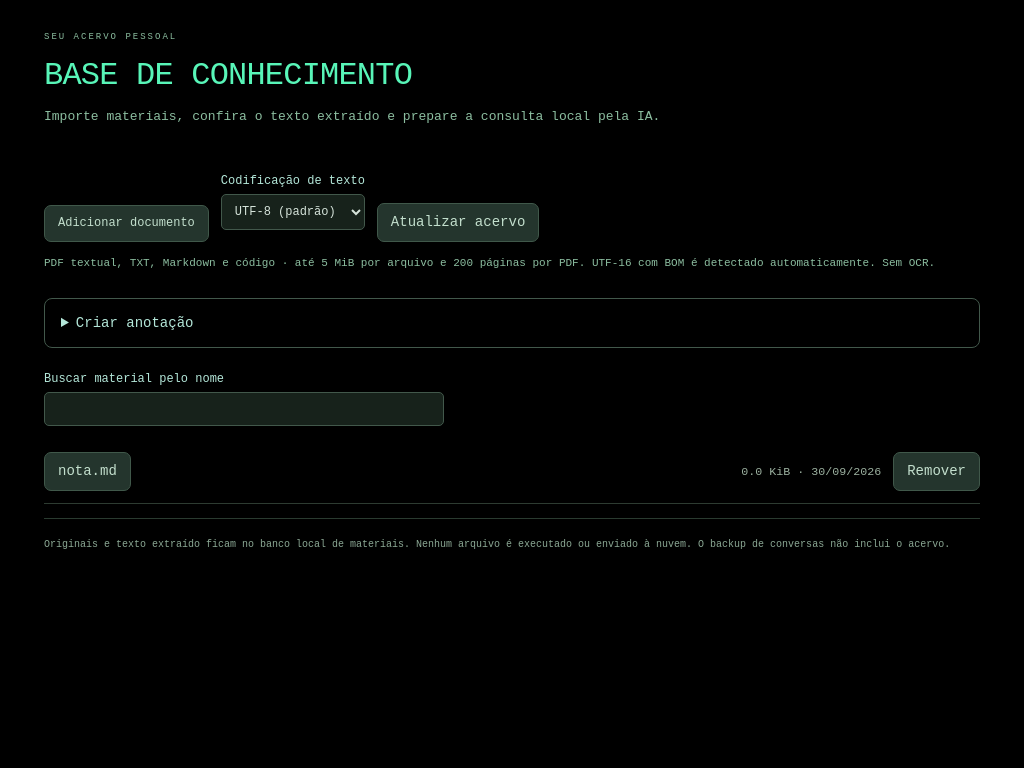
Test case: exige confirmação antes de remover e mantém material se a remoção falha
This screenshot has width=1024, height=768.
Click the button with aria-label "Remover nota.md" at (937, 472), box [893,452,980,492]
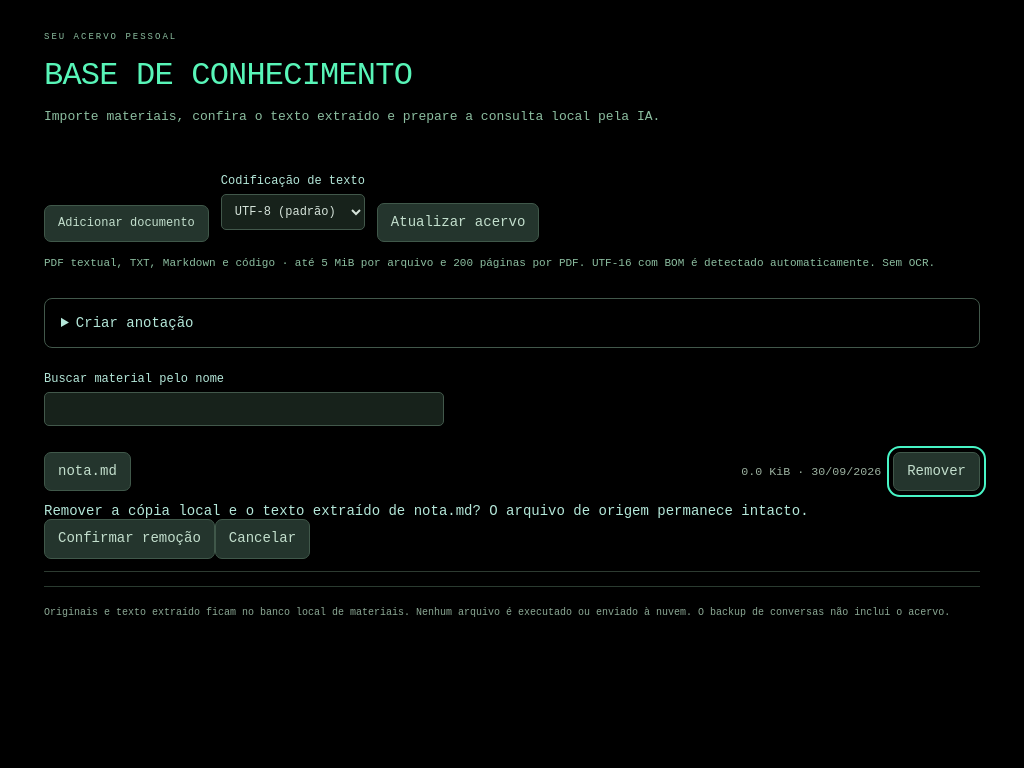
Click the button "Confirmar remoção" at (129, 539), box [44,520,215,559]
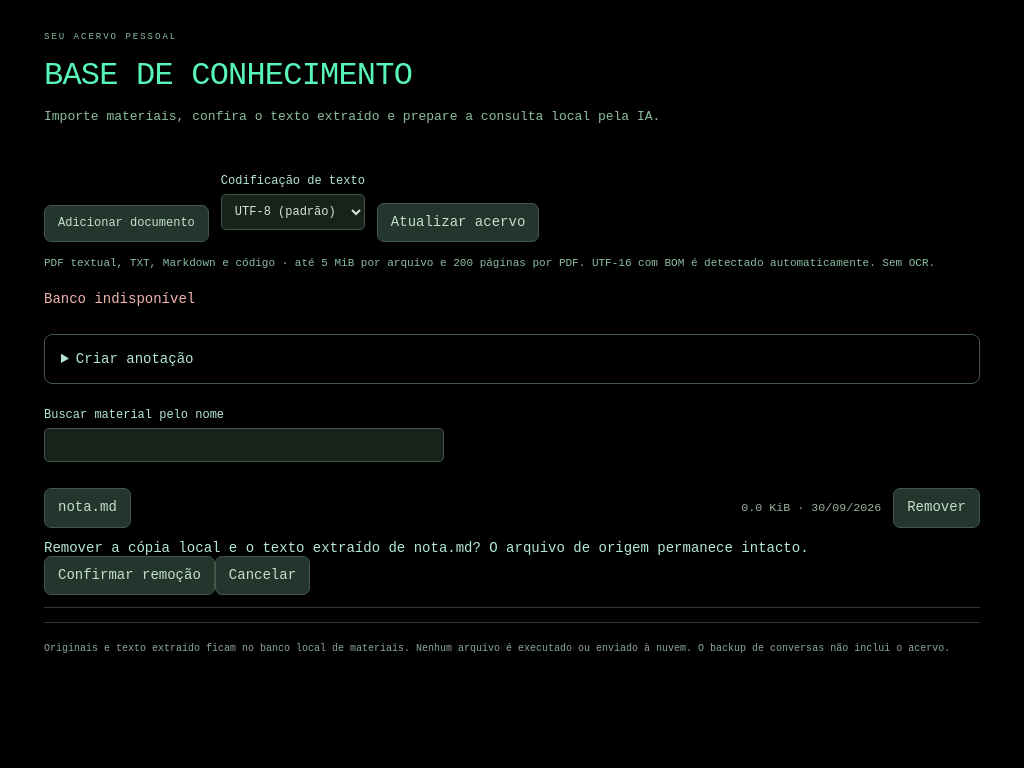
Expected: the button with aria-label "Remover nota.md" is shown, [893,488,980,528]
Now the message reads "Banco indisponível", box [44,291,195,307]
